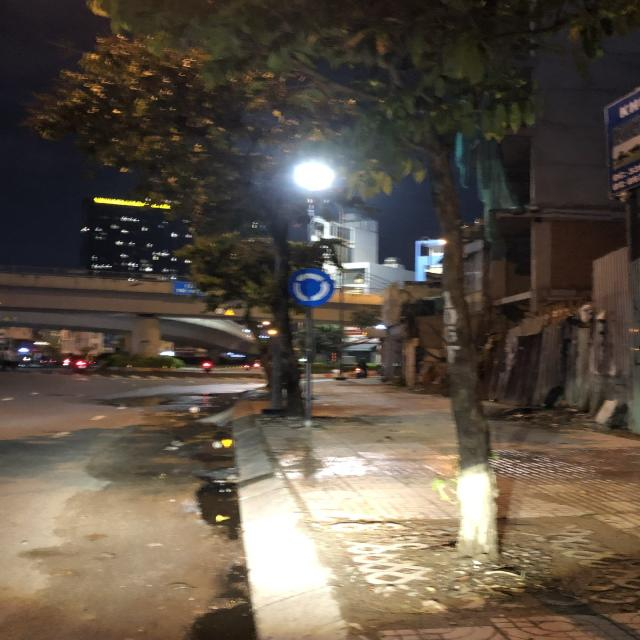Bien bao noi giao nhau chay theo vong xuyen: (285, 266, 337, 310)
